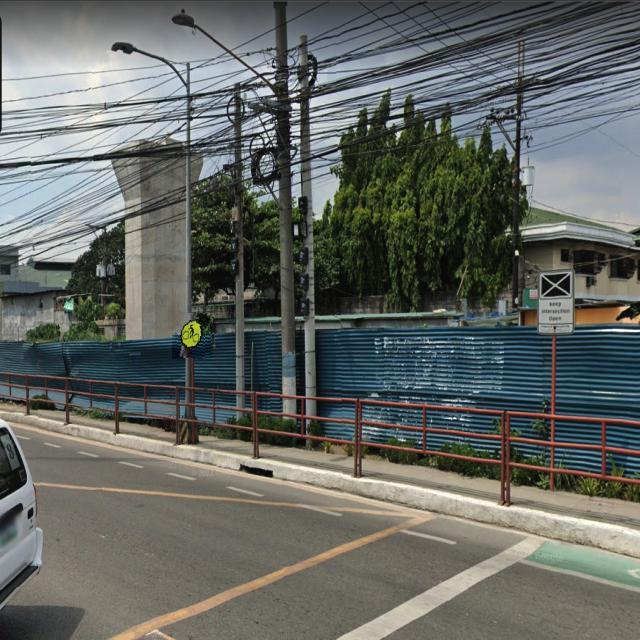bike lane: (172, 313, 212, 359)
